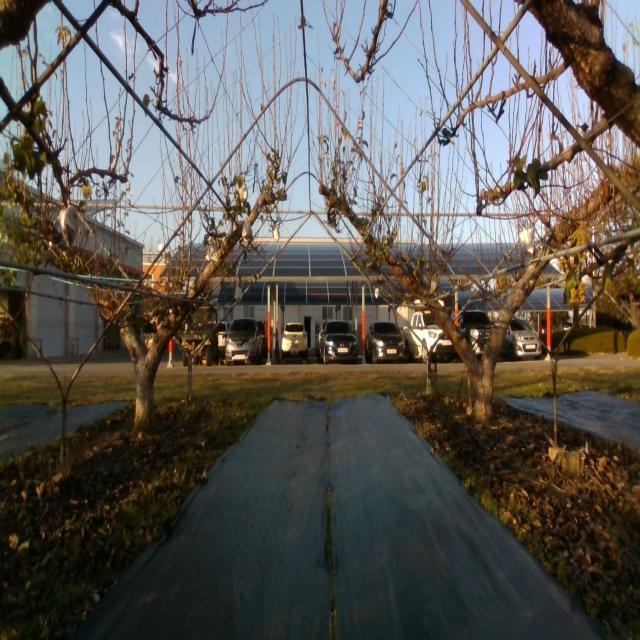pearbags: (59, 205, 79, 248), (520, 229, 534, 253), (208, 241, 218, 261), (242, 220, 253, 238)
